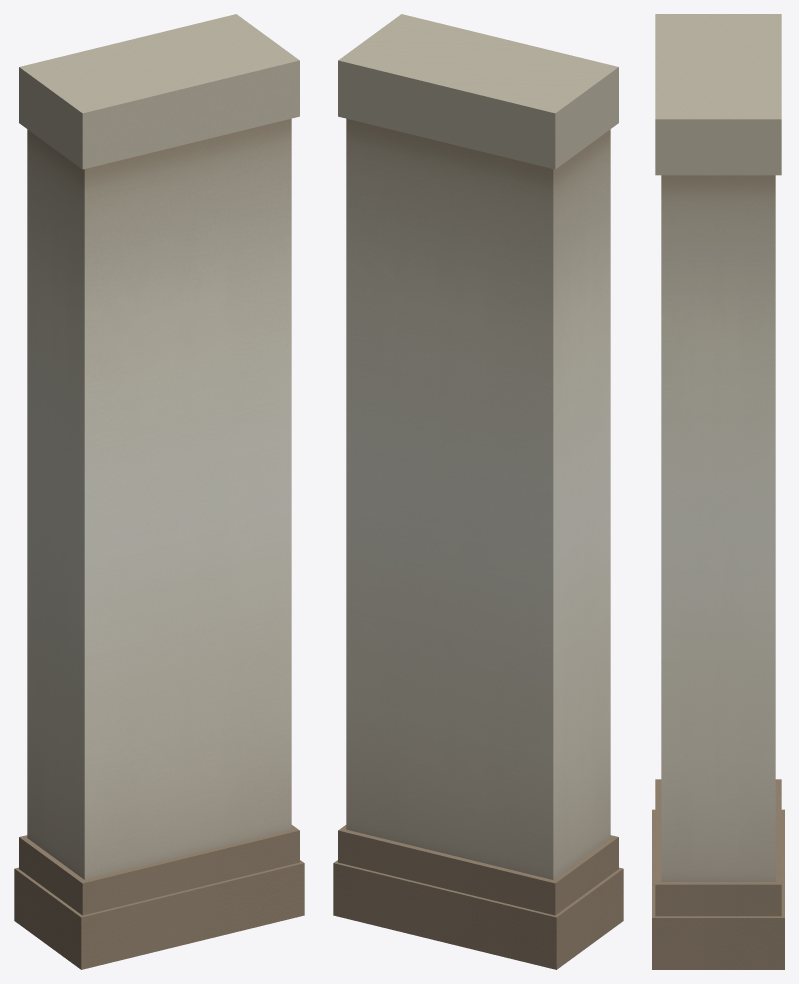
Rendered from set_outside_pillar.fbx.
3 renders of one model, left to right at view 1: azimuth 30°, elevation 25°; view 2: azimuth 150°, elevation 25°; view 3: azimuth 270°, elevation 25°, orthographic.
Visible parts, largest first — view 1: set_outside_pillar; view 2: set_outside_pillar; view 3: set_outside_pillar.
Boxes of the visible parts, x1=… form: set_outside_pillar: x1=14, y1=14, x2=304, y2=969; set_outside_pillar: x1=333, y1=14, x2=623, y2=969; set_outside_pillar: x1=652, y1=14, x2=784, y2=969.
Size of the model in its own units: 87.31 by 320 by 45.31.
